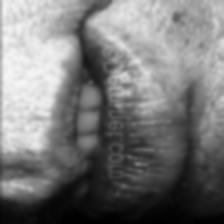Potentially Malignant Skin Tumors: (120, 130, 158, 172), (102, 190, 134, 206)
